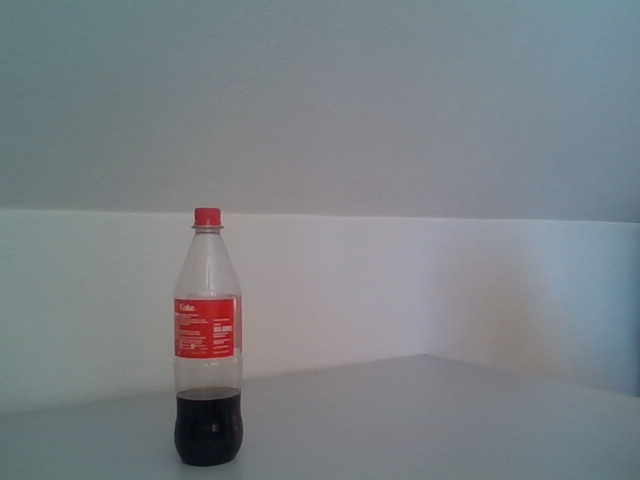bottle: (173, 207, 244, 467)
